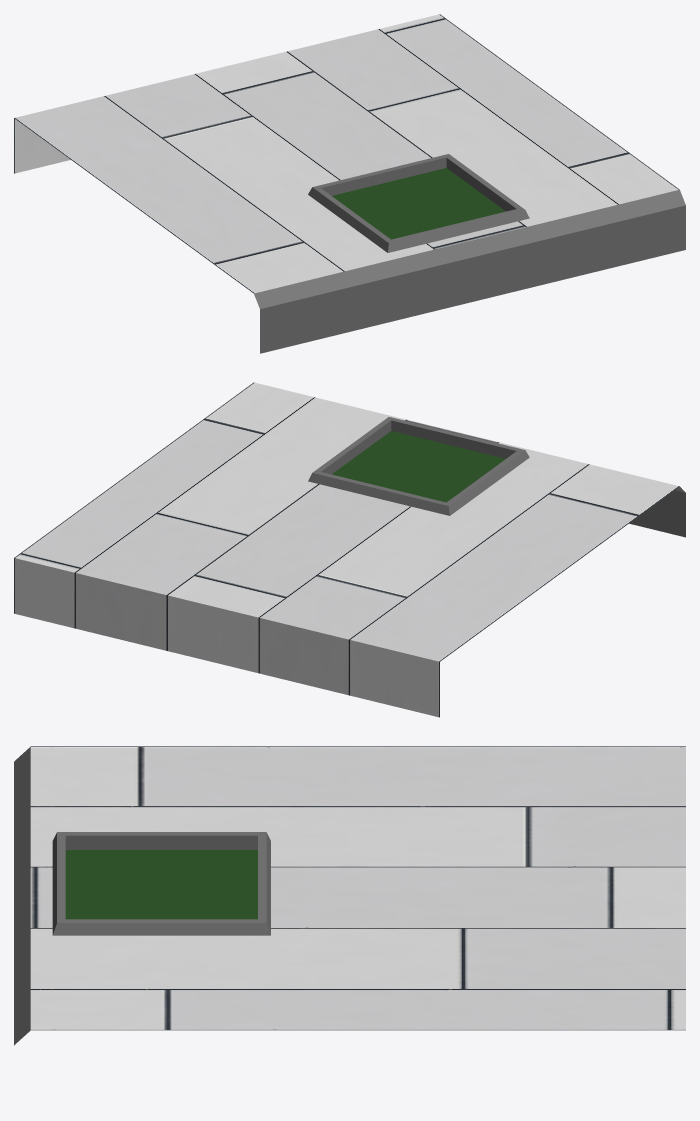
File: Acera_Árbol.fbx
3 renders of one model, top to bottom at view 1: azimuth 30°, elevation 25°; view 2: azimuth 150°, elevation 25°; view 3: azimuth 270°, elevation 25°, orthographic. The views are drawn at different scales.
Visible parts, largest first — view 1: Acera árbol; view 2: Acera árbol; view 3: Acera árbol.
Boxes of the visible parts, left/top/right/bottom form: Acera árbol: left=14, top=14, right=685, bottom=353; Acera árbol: left=14, top=382, right=685, bottom=717; Acera árbol: left=14, top=746, right=685, bottom=1045.
Size of the model in its own units: 800 by 114 by 800.
